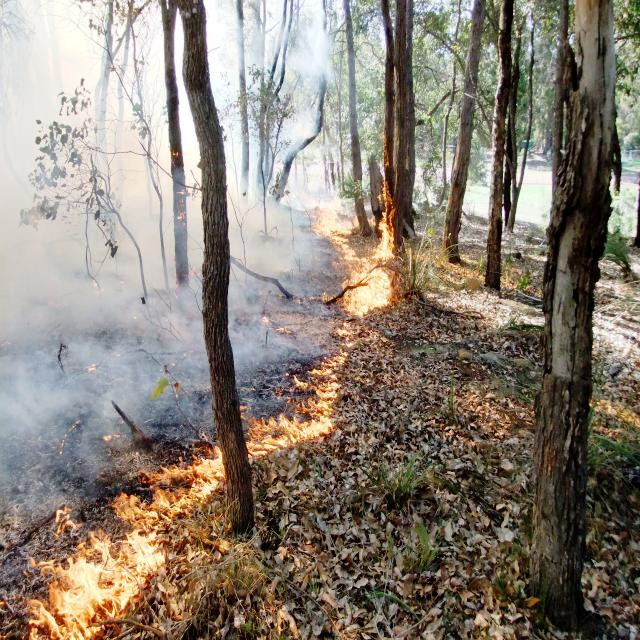api: (23, 451, 213, 640), (325, 204, 406, 454), (251, 400, 320, 454)
asap: (1, 181, 210, 443)
